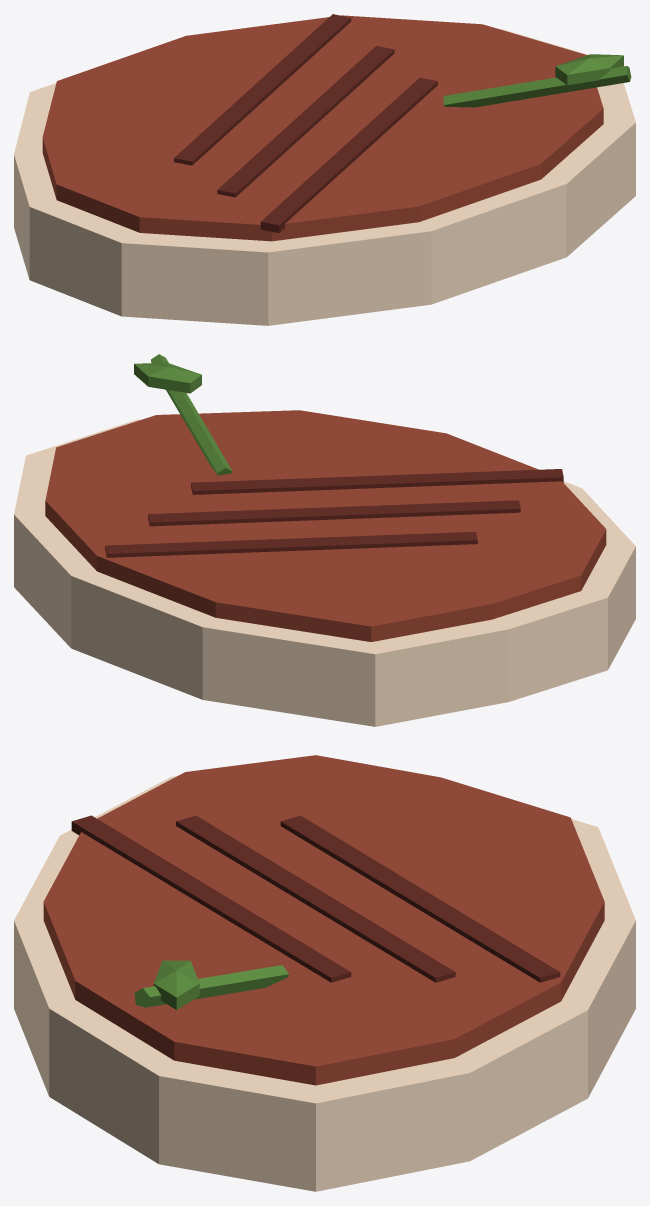
The model's file is Food_Steak.obj.
3 views of the same model, one above another, from view 1: azimuth 30°, elevation 25°; view 2: azimuth 150°, elevation 25°; view 3: azimuth 270°, elevation 25° (orthographic). The views are drawn at different scales.
Size of the model in its own units: 2.35 by 0.54 by 1.79.
